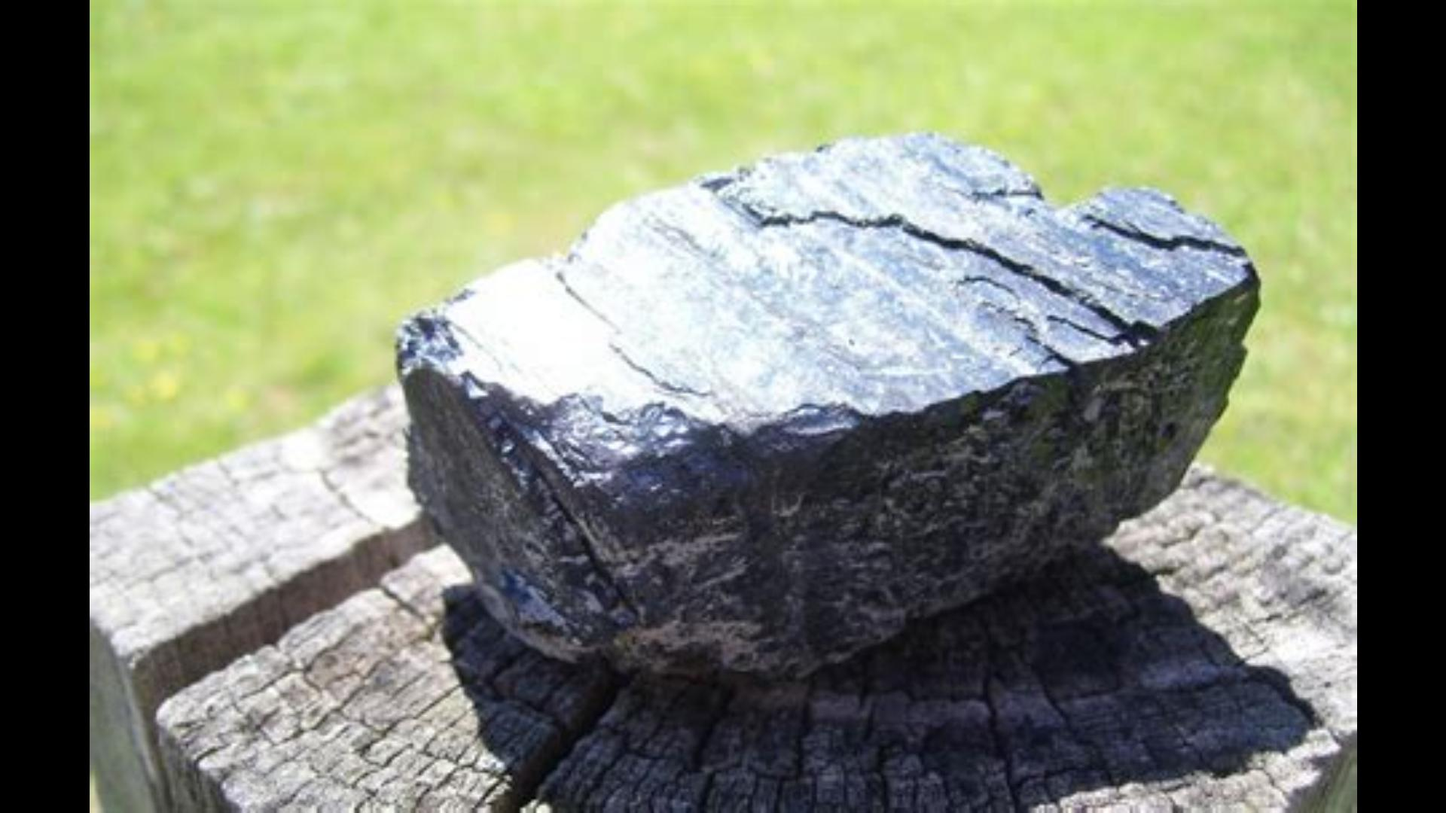rock: (407, 134, 1253, 677)
